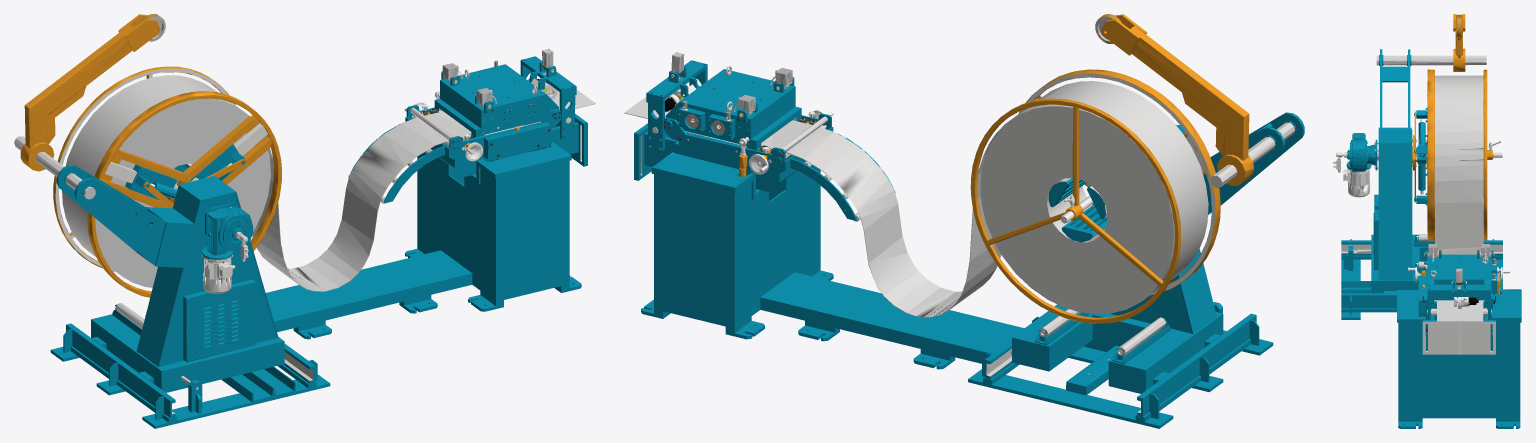
File: AssiemeV2.glb
3 renders of one model, left to right at view 1: azimuth 30°, elevation 25°; view 2: azimuth 150°, elevation 25°; view 3: azimuth 270°, elevation 25°, orthographic. The views are drawn at different scales.
Visible parts, largest first — view 1: SM20 BP+TRAS_ASS; view 2: SM20 BP+TRAS_ASS; view 3: SM20 BP+TRAS_ASS, Cube.
Boxes of the visible parts, x1,y1,x2,y2 form: SM20 BP+TRAS_ASS: (14,14,587,428); SM20 BP+TRAS_ASS: (634,14,1304,428); SM20 BP+TRAS_ASS: (1333,14,1521,428); Cube: (1437,300,1483,321).
Bounding box in the file's own units: 4.09 × 2.38 × 1.54.
42 materials, 3 textured.
